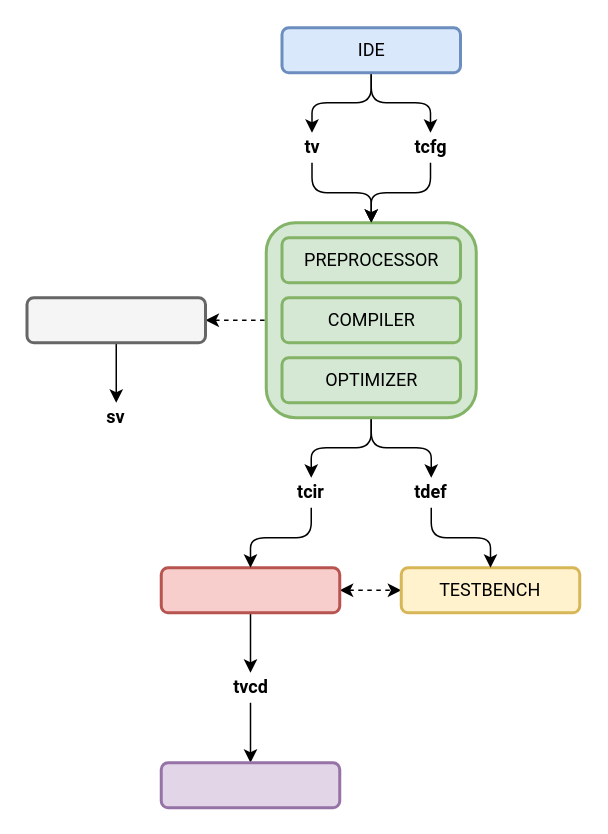
Some shapes in this 608 by 834 pixel diagram are drawn without their labels. Each missing label, with the centre of its shape:
SIMULATOR: [249,590]
TRACE ANALYSER: [249,784]
TRANSLATOR: [115,320]
